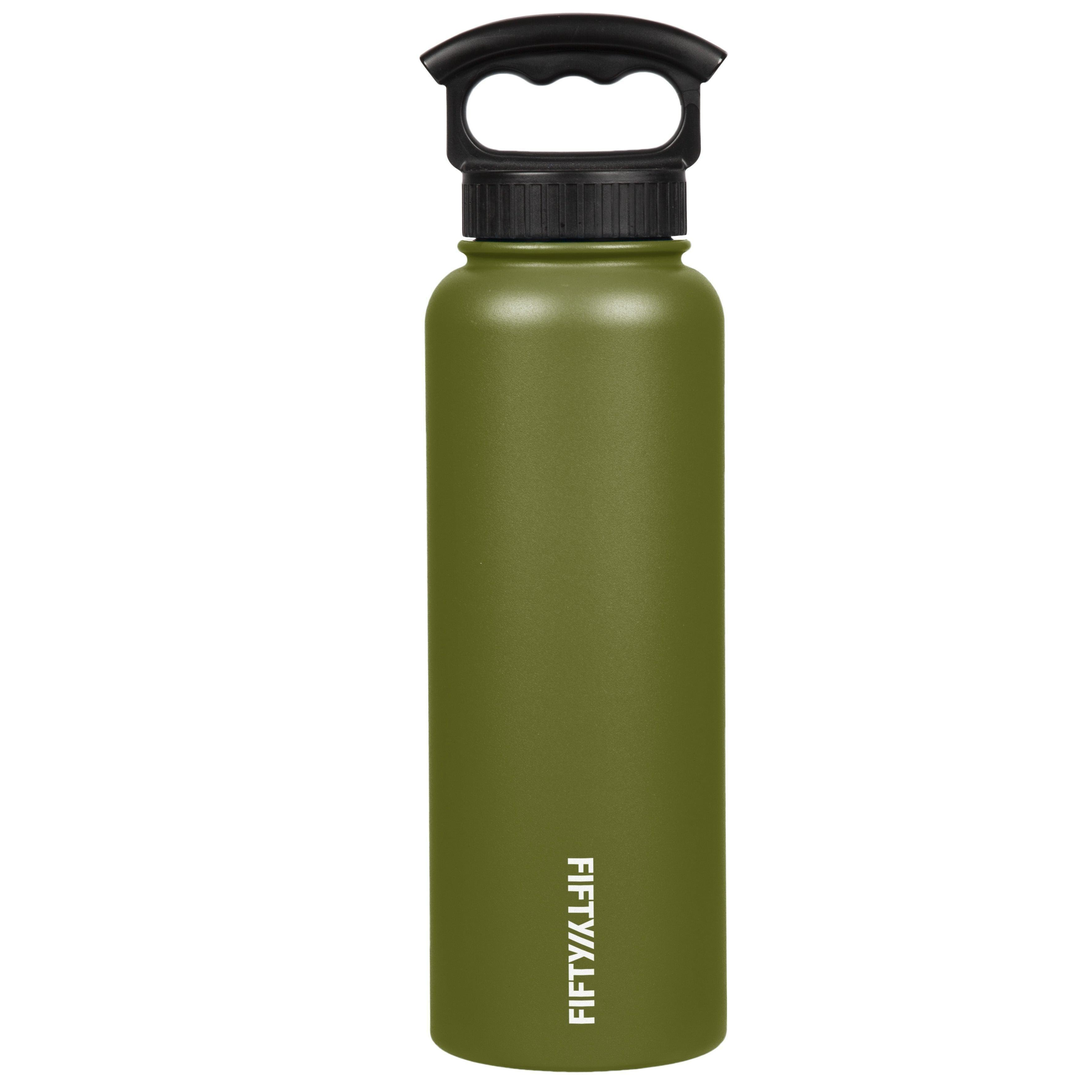gym bottle: (413, 1, 738, 1084)
